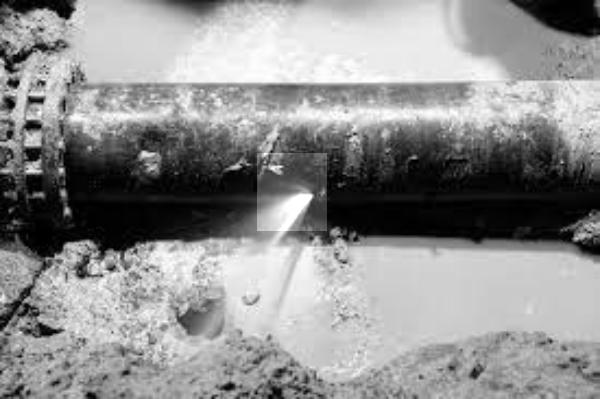water: (257, 153, 327, 231)
